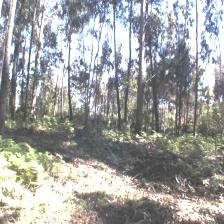trunktrack_idkeyframe: (135, 37, 144, 136), (26, 66, 39, 123), (114, 82, 123, 132), (67, 74, 74, 122), (10, 68, 16, 122), (152, 94, 160, 134), (193, 93, 198, 137), (124, 91, 129, 125)
